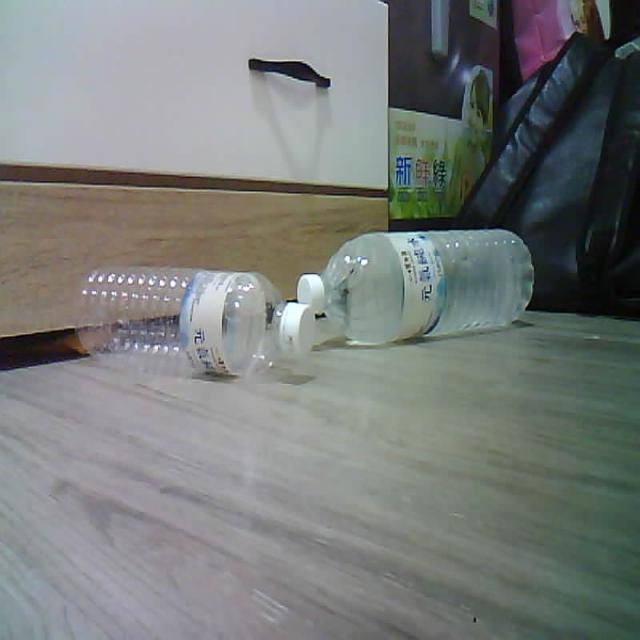bottle: (298, 229, 536, 345), (74, 266, 314, 375)
